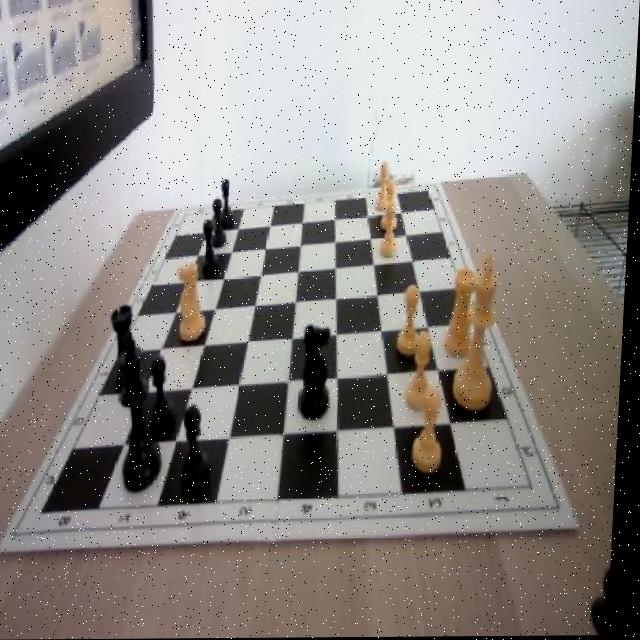black-bishop: (119, 330, 173, 494)
black-king: (301, 321, 338, 422)
black-knight: (184, 408, 217, 496), (153, 353, 182, 438), (204, 222, 223, 277), (220, 180, 239, 232), (212, 198, 230, 247)
black-queen: (112, 304, 149, 390)
white-bishop: (456, 257, 508, 411)
white-king: (177, 260, 213, 344)
white-knight: (415, 388, 452, 477), (404, 333, 437, 415), (399, 284, 428, 355), (381, 202, 402, 258), (384, 179, 402, 232), (378, 161, 393, 211)
white-queen: (447, 269, 481, 358)
